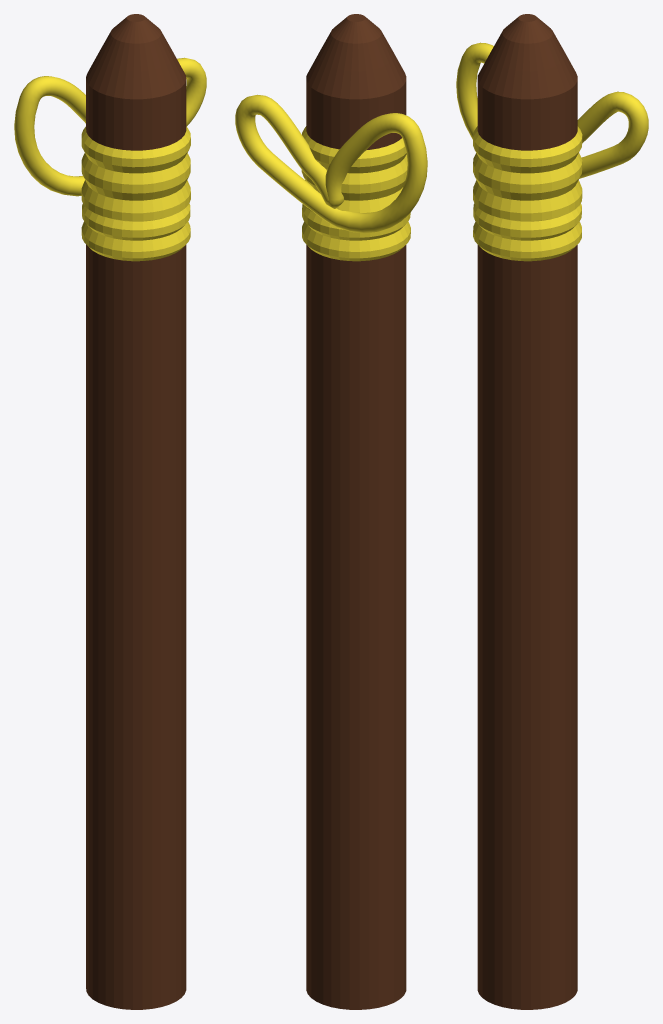
File: stick_and_rope2.glb
The picture shows the model from 3 angles, left to right: view 1: azimuth 30°, elevation 25°; view 2: azimuth 150°, elevation 25°; view 3: azimuth 330°, elevation 25°; orthographic projection.
Parts seen in each view (by area): view 1: Cylinder.001, BézierCurve.001; view 2: Cylinder.001, BézierCurve.001; view 3: Cylinder.001, BézierCurve.001.
Boxes of the visible parts, x1,y1,x2,y2 form: Cylinder.001: (81, 14, 190, 1009); BézierCurve.001: (14, 57, 206, 196); Cylinder.001: (301, 14, 410, 1009); BézierCurve.001: (235, 94, 427, 233); Cylinder.001: (473, 14, 582, 1009); BézierCurve.001: (456, 42, 648, 178).
Size of the model in its own units: 0.2182 by 1.07 by 0.1148.
